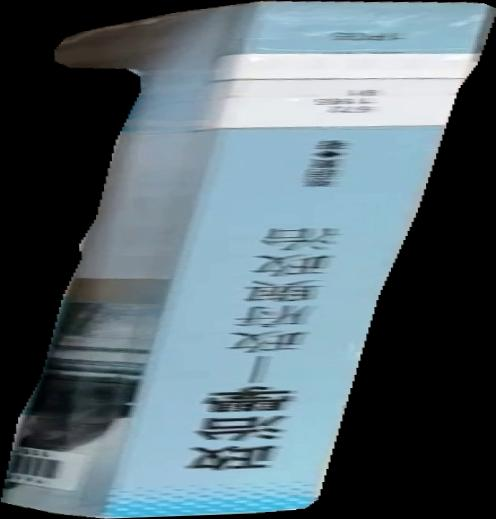reverse: (1, 1, 496, 519)
